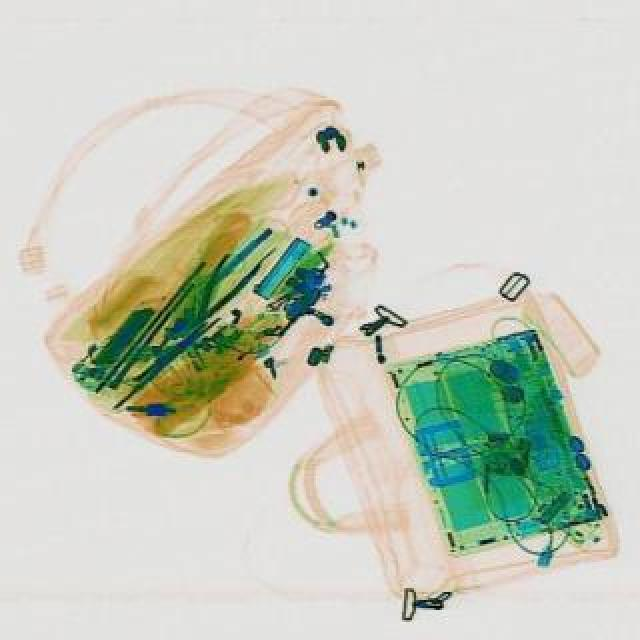wrench: (172, 244, 262, 338)
